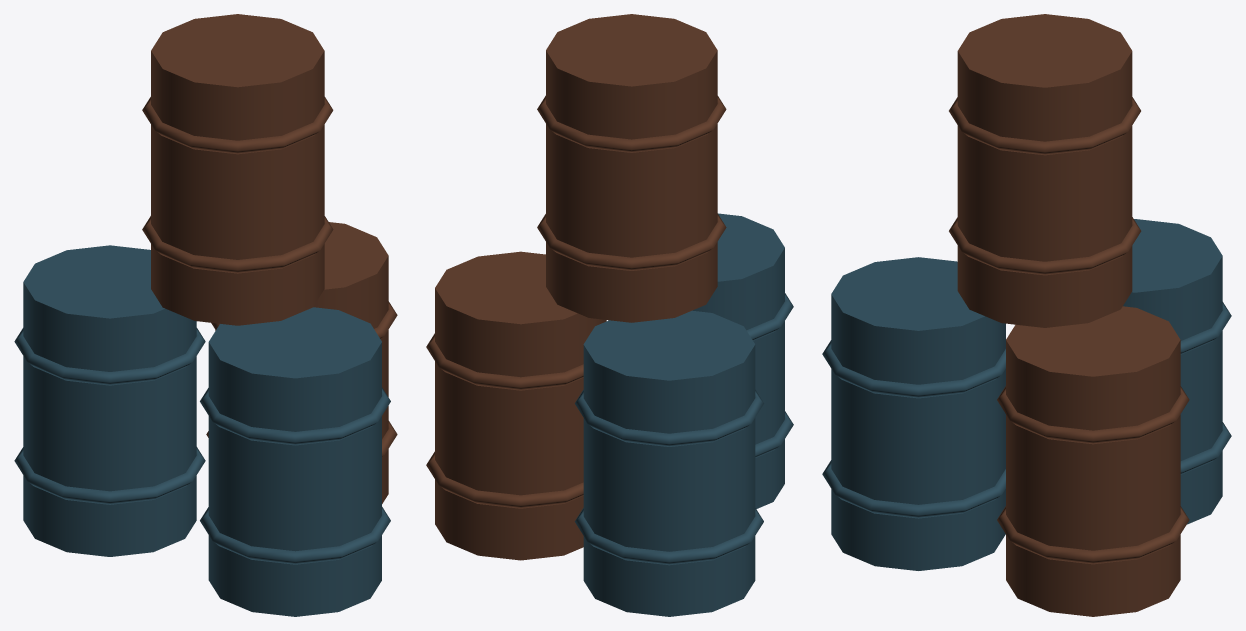
File: fuel_drum_cluster.glb
3 renders of one model, left to right at view 1: azimuth 30°, elevation 25°; view 2: azimuth 150°, elevation 25°; view 3: azimuth 270°, elevation 25°, orthographic.
Visible parts, largest first — view 1: FuelDrumCluster; view 2: FuelDrumCluster; view 3: FuelDrumCluster.
Part boxes in pixels (left/top/right/bottom): FuelDrumCluster: left=14, top=14, right=397, bottom=616; FuelDrumCluster: left=426, top=14, right=793, bottom=616; FuelDrumCluster: left=822, top=14, right=1231, bottom=616.
Bounding box in the file's own units: 1.3 × 1.78 × 1.36.
